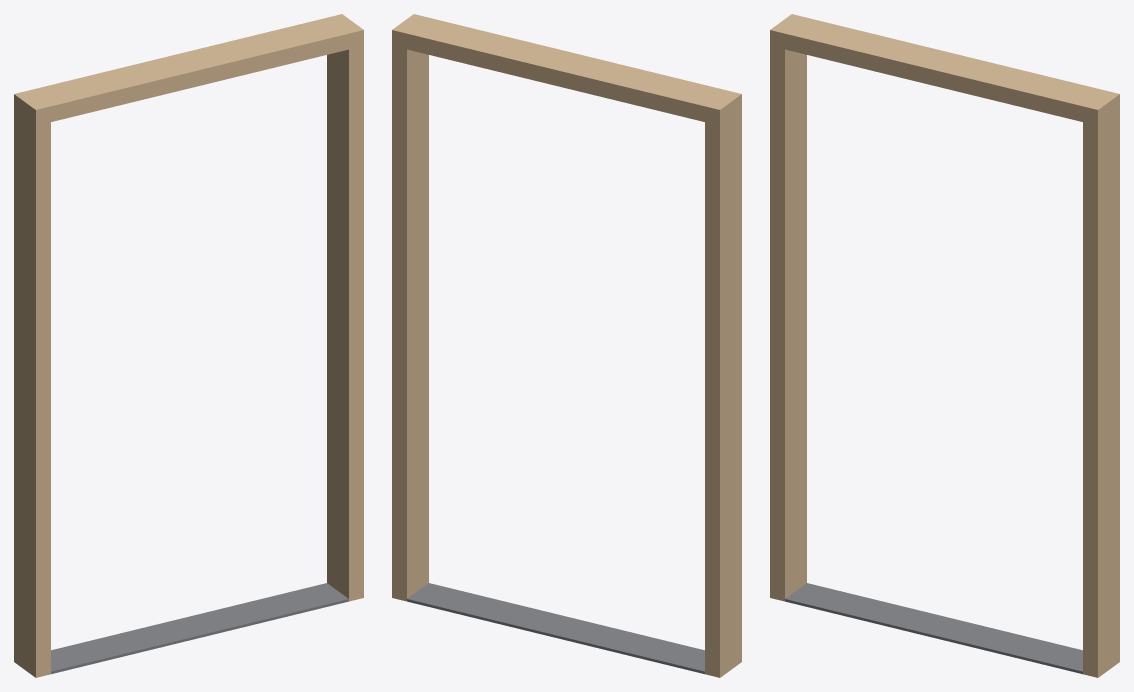
The model's file is opening_frame.glb.
3 renders of one model, left to right at view 1: azimuth 30°, elevation 25°; view 2: azimuth 150°, elevation 25°; view 3: azimuth 330°, elevation 25°, orthographic.
Parts seen in each view (by area): view 1: opening_frame; view 2: opening_frame; view 3: opening_frame.
Boxes of the visible parts, x1,y1,x2,y2 form: opening_frame: (14, 14, 363, 677); opening_frame: (392, 14, 741, 677); opening_frame: (770, 14, 1119, 677).
Bounding box in the file's own units: 1.3 × 2.15 × 0.15.
